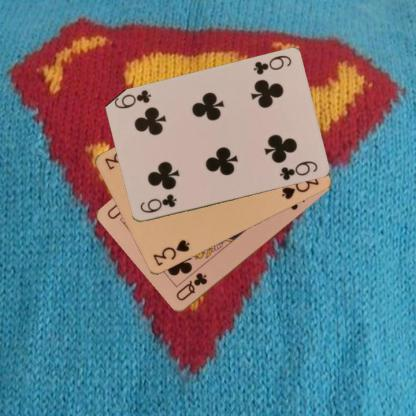3s: (150, 237, 191, 268)
6c: (137, 191, 178, 215), (250, 53, 292, 76)
Qc: (173, 270, 208, 303)
